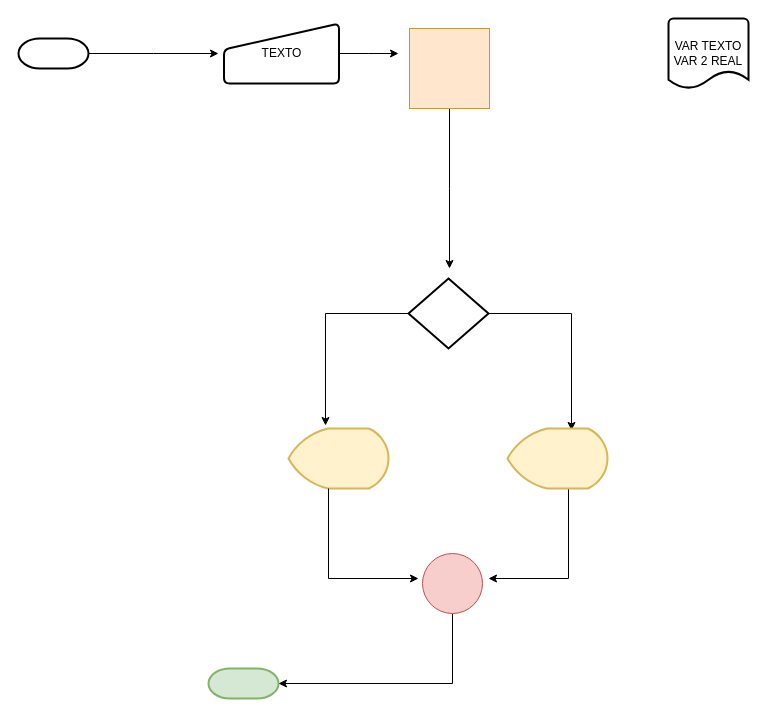
Some shapes in this 766 by 716 pixel diagram are drawn without their labels. The centre of each missing label's shape, as x and y in pixels:
FIM: pixel 243 683
INICIO: pixel 53 53
